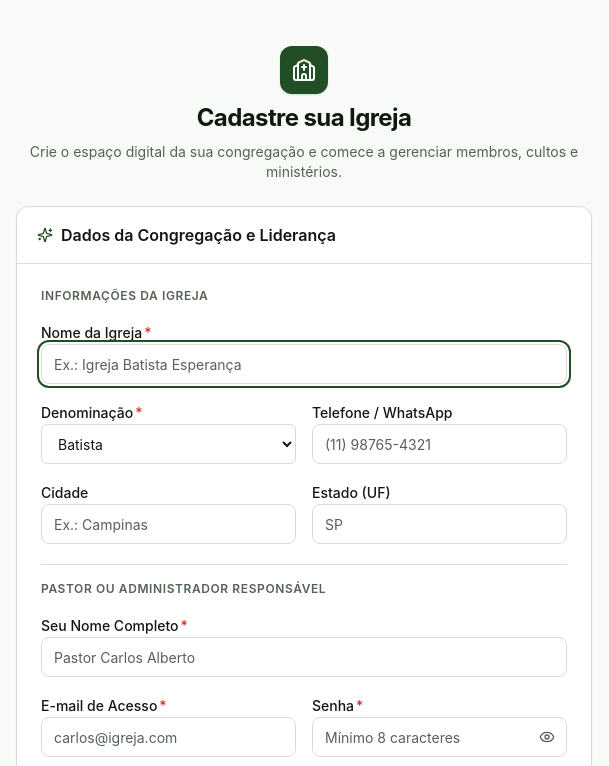
RegisterChurchPage › exibe erro se usuário existente não for elegível para multi-igreja (403 Forbidden)
Type "Igreja Filial Sul" into the field labelled "Nome da Igreja*" at (304, 364), box [41,344,567,384]
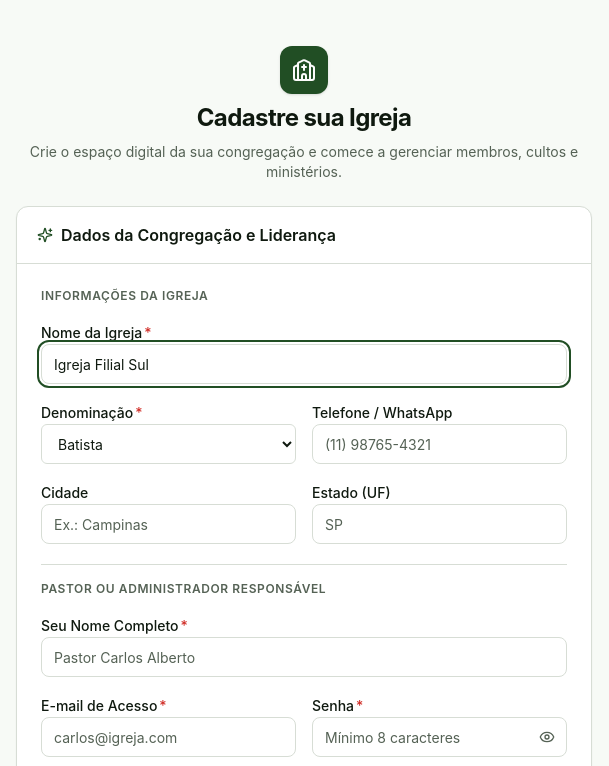
Type "Membro Comum" into the field labelled "Seu Nome Completo*" at (304, 657), box [41,637,567,677]
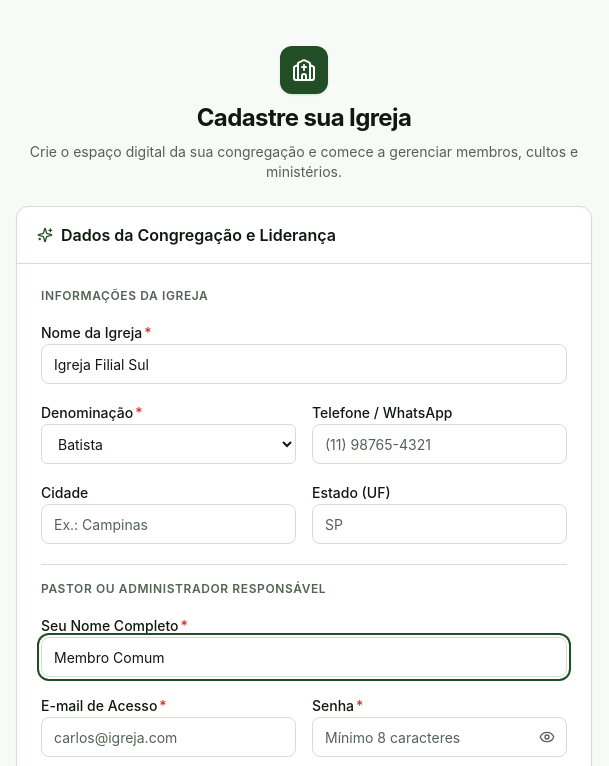
Type "membro@igreja.com" into the field labelled "E-mail de Acesso*" at (168, 737), box [41,717,296,757]
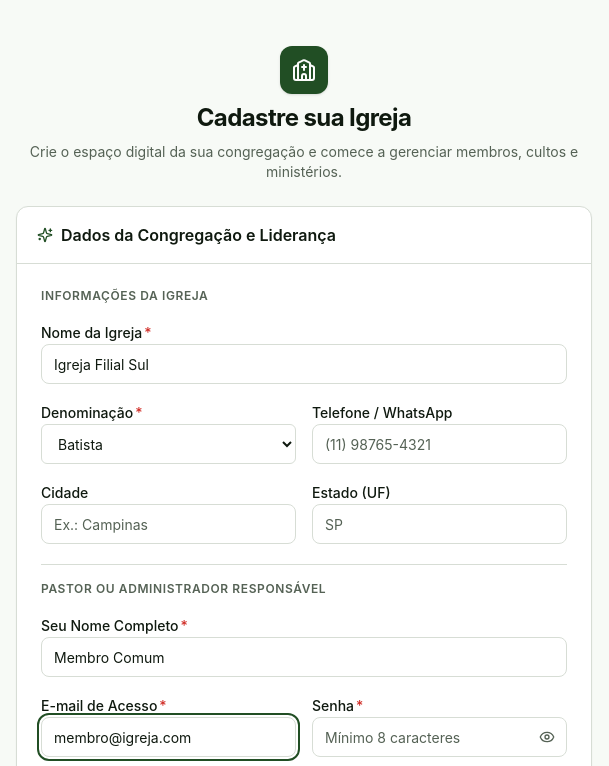
Type "senhaForte123" into the password field labelled "Senha*" at (440, 737), box [312,717,567,757]
(page scrolled)
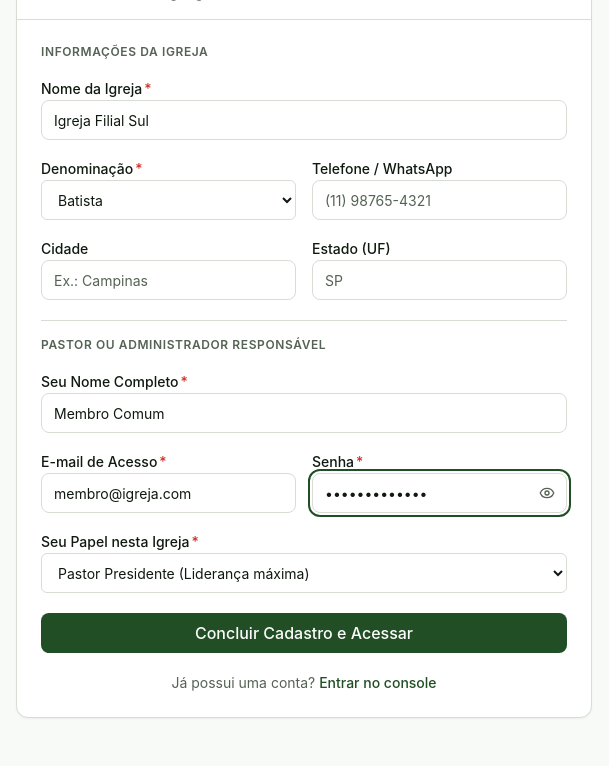
Click the button "Concluir Cadastro e Acessar" at (304, 633), box [41,613,567,653]
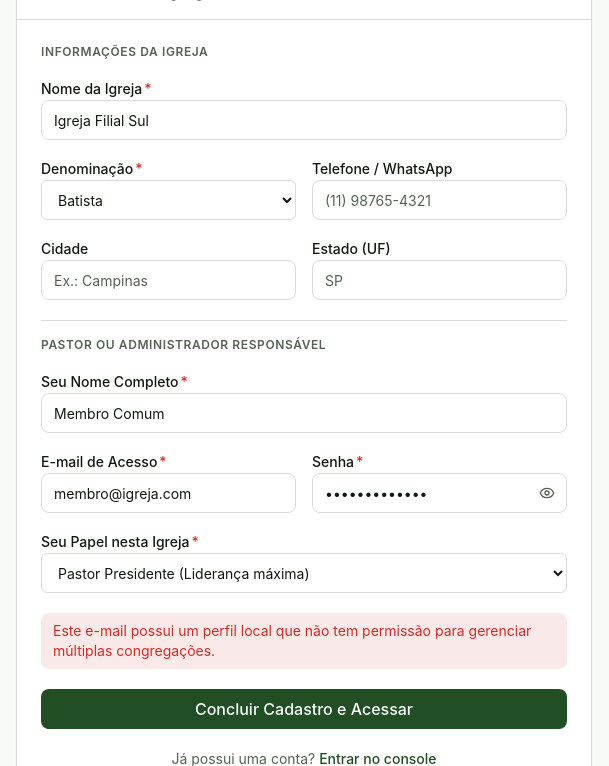
Expected: the text "não tem permissão para gerenciar múltiplas congregações" is shown, [53,622,531,659]
